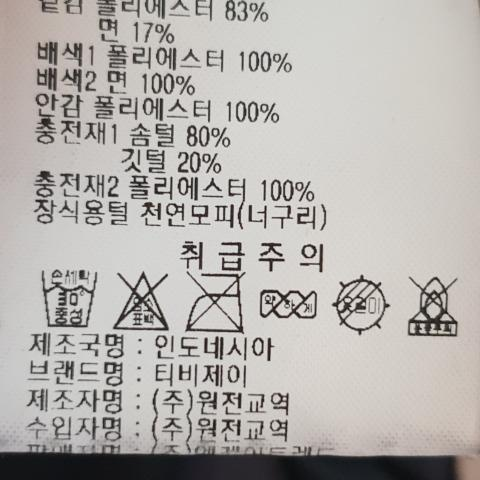DN_iron: (183, 272, 247, 336)
hand_wash: (41, 265, 103, 331)
line_dry_in_shade: (335, 275, 393, 335)
non_chlorine_bleach: (113, 262, 176, 333)
wring: (259, 284, 324, 322)
